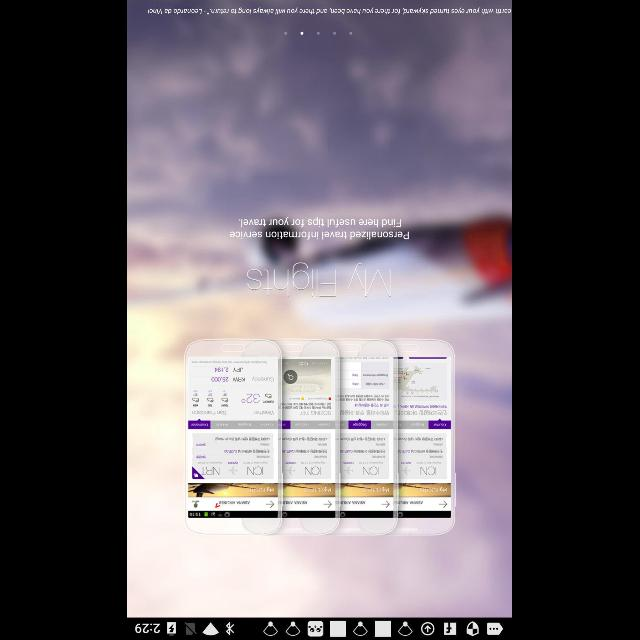backgroundimage: (128, 0, 512, 618)
image: (185, 338, 458, 536)
pageindicator: (284, 31, 354, 35)
text: (248, 262, 392, 298), (230, 216, 410, 240), (148, 8, 512, 15)
uppertaskbar: (128, 617, 512, 639)
